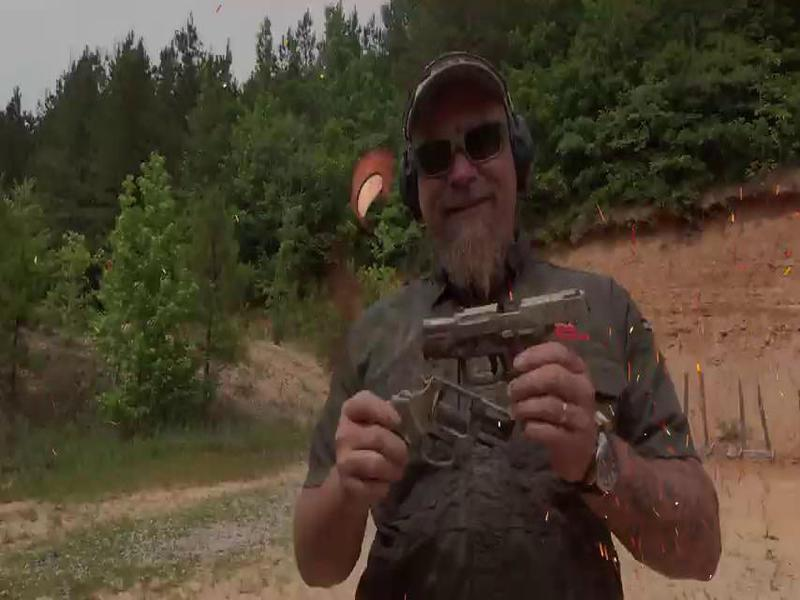Pistola: (419, 277, 585, 391)
Revolver: (377, 375, 513, 480)
